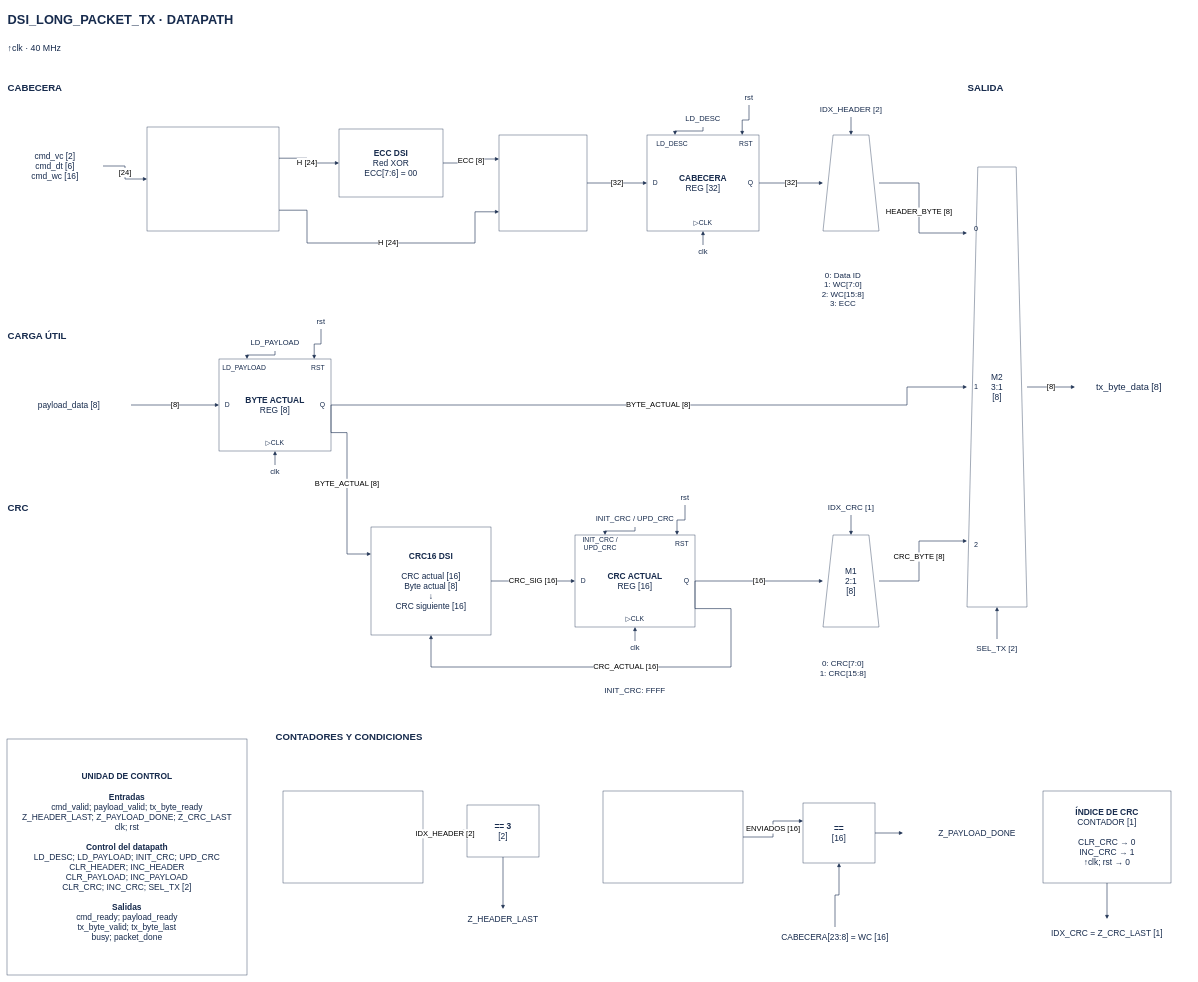
Image size: 1198x982. Some labels were removed from this diagram. Each missing label, with the centre of its shape:
BYTES ENTREGADOS CONTADOR [16] CLR_PAYLOAD → 0 INC_PAYLOAD → +1 ↑clk; rst → 0: the point at 673,837
FORMAR H [24] H[7:0] = {VC, DT} H[15:8] = WC[7:0] H[23:16] = WC[15:8]: the point at 213,179
M0 4:1 [8]: the point at 851,183
UNIR [32] {ECC, H}: the point at 543,183
ÍNDICE DE CABECERA CONTADOR [2] CLR_HEADER → 0 INC_HEADER → +1 ↑clk; rst → 0: the point at 353,837
